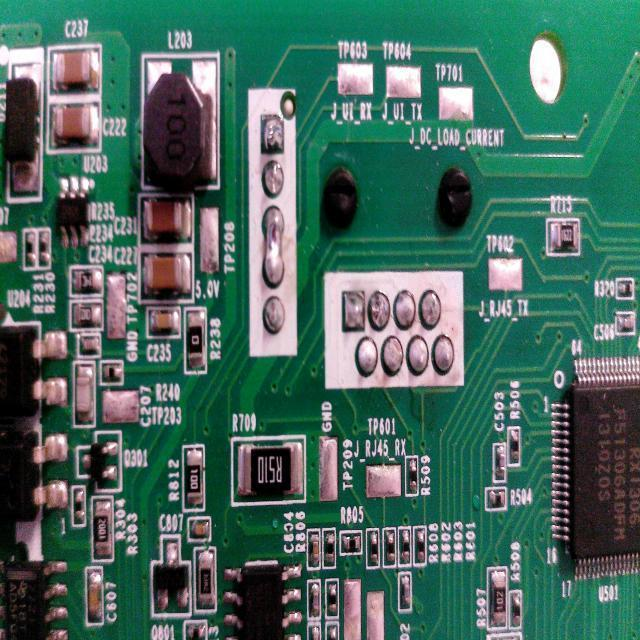Soldering shorted: (260, 200, 290, 288)
